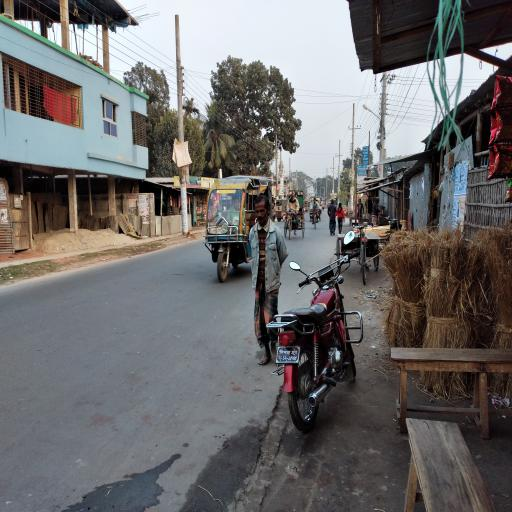auto rickshaw: (199, 175, 282, 288)
bicycle: (312, 201, 320, 226)
motorbike: (262, 232, 377, 438)
rickshaw: (283, 189, 308, 242)
